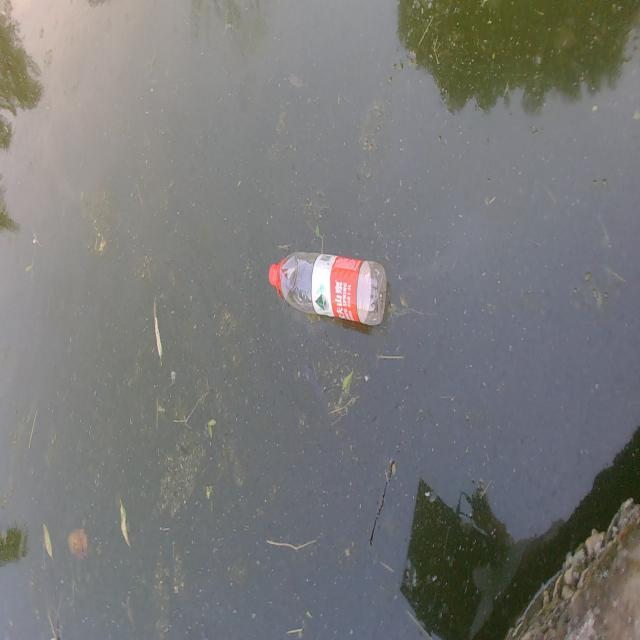bottle: (254, 206, 399, 356)
